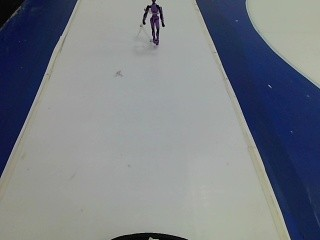pedestrian: (126, 0, 178, 52)
